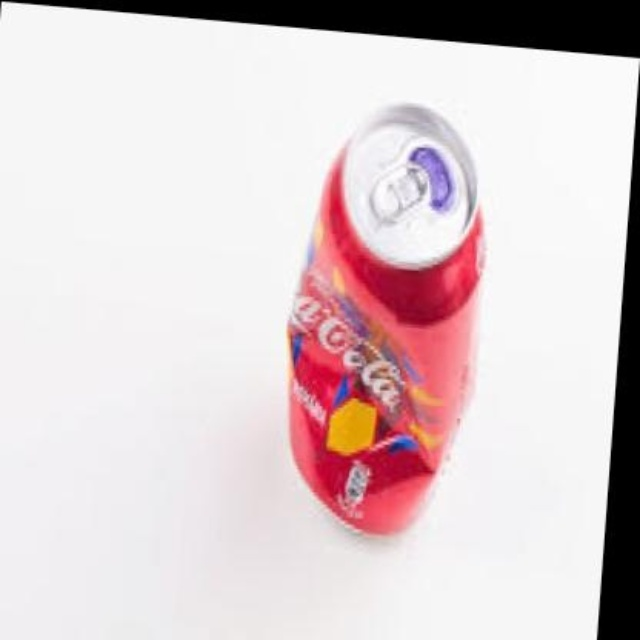trash: (288, 105, 482, 532)
